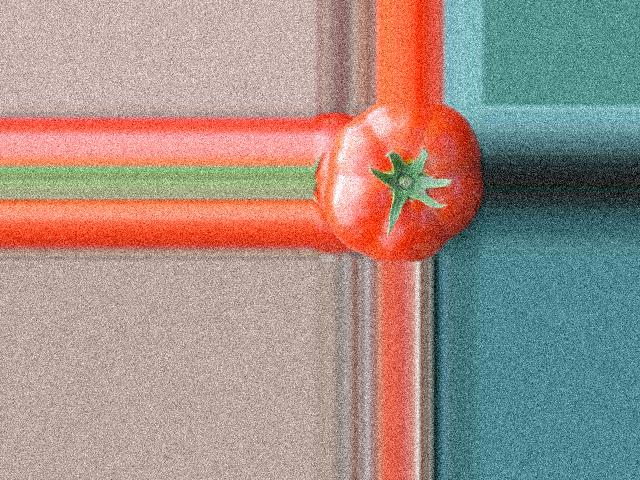tomato: (323, 103, 482, 263)
